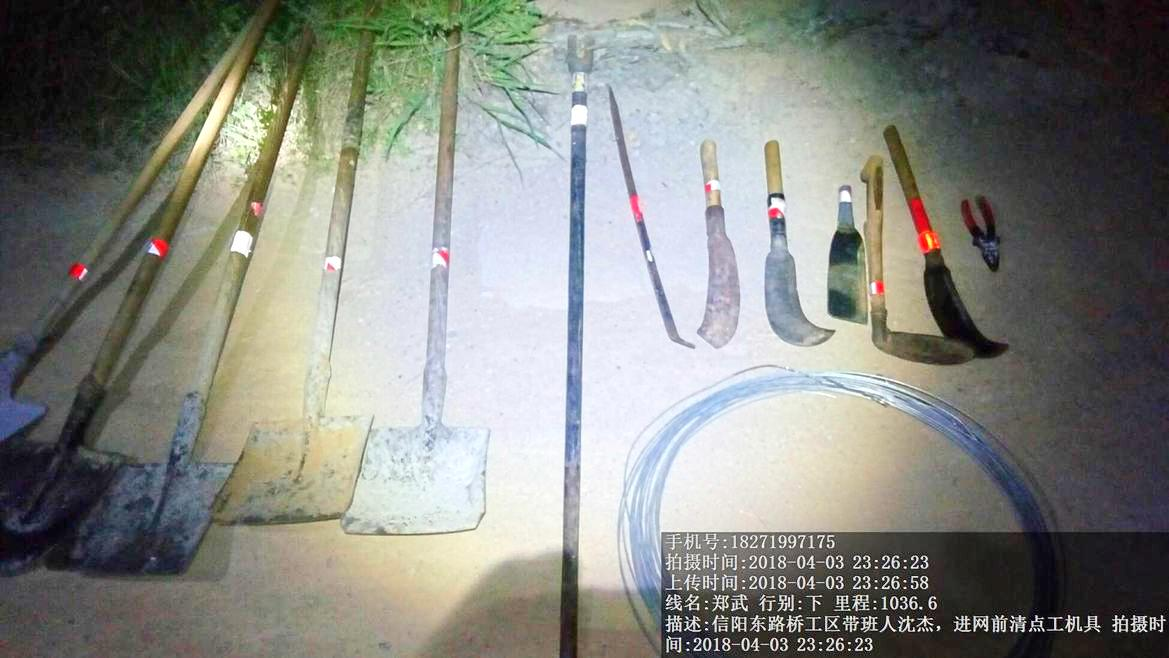TQ: (16, 42, 241, 556), (352, 24, 499, 532), (224, 111, 349, 524)
